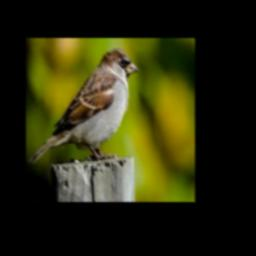Sparrow: (28, 48, 138, 164)
